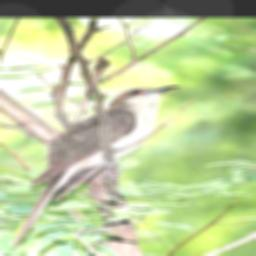Cuckoo: (9, 85, 180, 251)
